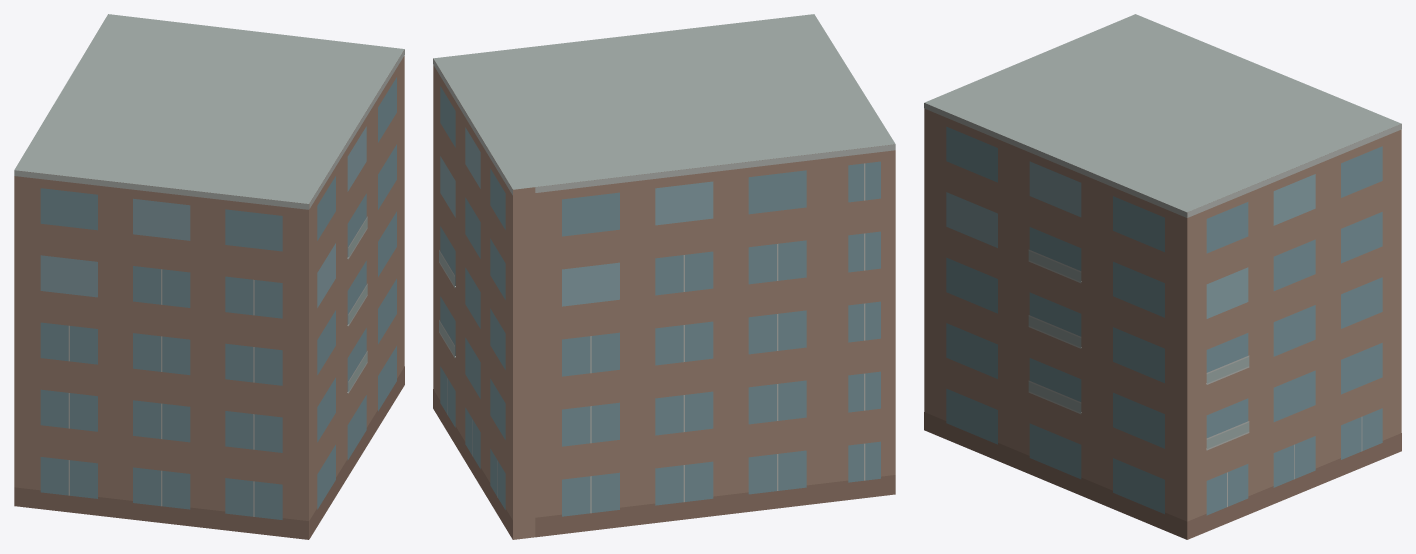
The model's file is survey-upis-32957621.glb.
3 renders of one model, left to right at view 1: azimuth 30°, elevation 25°; view 2: azimuth 150°, elevation 25°; view 3: azimuth 270°, elevation 25°, orthographic. The views are drawn at different scales.
Visible parts, largest first — view 1: survey-upis-32957621.tmp; view 2: survey-upis-32957621.tmp; view 3: survey-upis-32957621.tmp.
Part boxes in pixels (x1,y1,x2,y2): survey-upis-32957621.tmp: (14, 14, 404, 539); survey-upis-32957621.tmp: (433, 14, 895, 539); survey-upis-32957621.tmp: (924, 14, 1401, 539).
Bounding box in the file's own units: 18.33 × 14.1 × 18.65.
